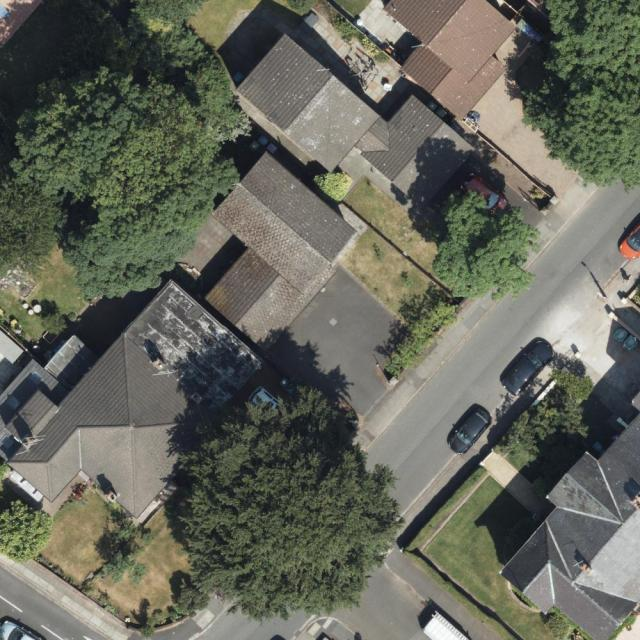roof: (0, 276, 271, 516), (232, 31, 481, 211), (493, 404, 640, 640), (204, 147, 359, 352), (381, 0, 517, 123)
skylight: (5, 390, 24, 415), (27, 370, 48, 390)
